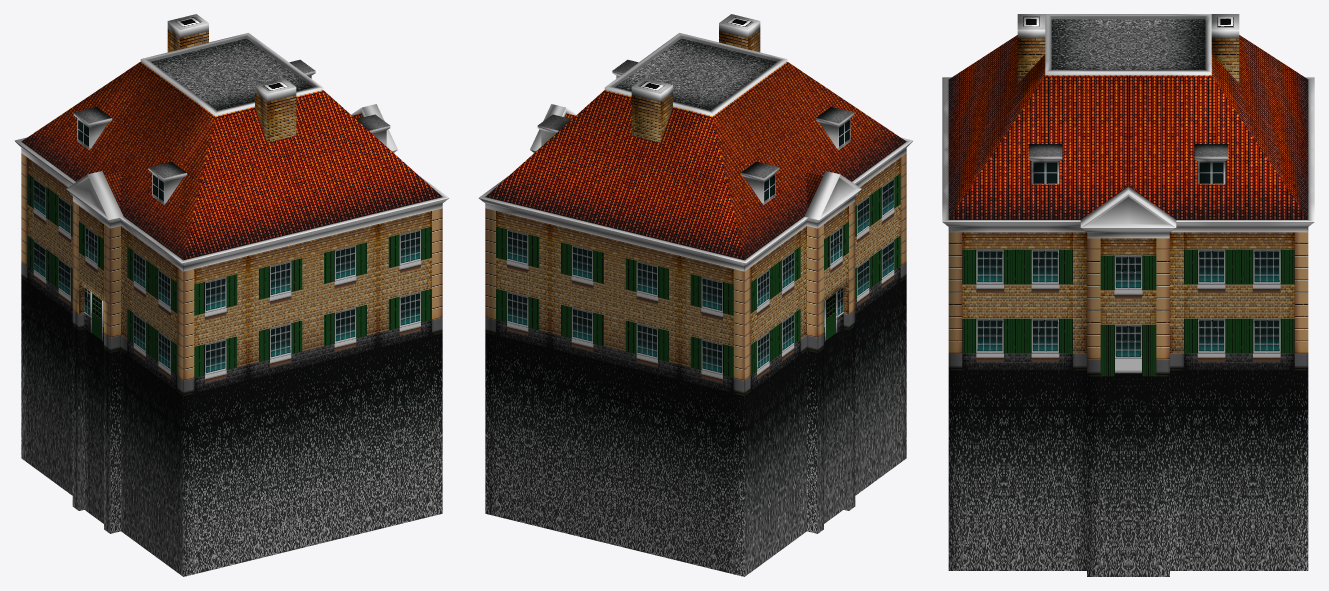
Rendered from landhuis_mod1_1a.fbx.
3 views of the same model, side by side, from view 1: azimuth 30°, elevation 25°; view 2: azimuth 150°, elevation 25°; view 3: azimuth 270°, elevation 25° (orthographic). The views are drawn at different scales.
Visible parts, largest first — view 1: landhuis_mod1_1a; view 2: landhuis_mod1_1a; view 3: landhuis_mod1_1a.
Boxes of the visible parts, box(x1,y1,x2,y2) form: landhuis_mod1_1a: box(14, 14, 449, 576); landhuis_mod1_1a: box(478, 14, 913, 576); landhuis_mod1_1a: box(942, 14, 1314, 576).
Bounding box in the file's own units: 1506 × 2148 × 1512.
